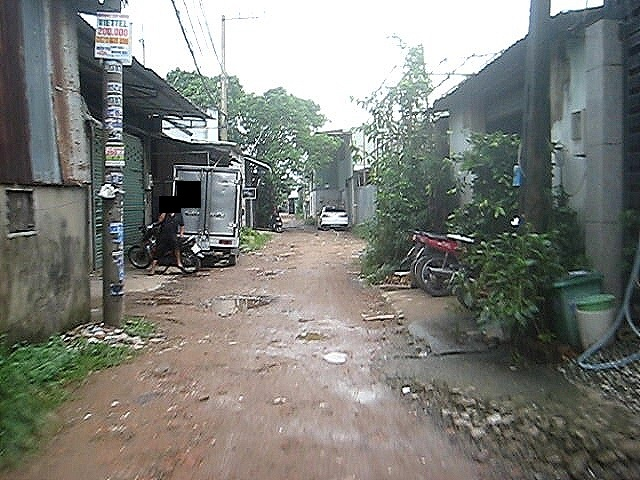hole: (191, 290, 279, 321), (246, 264, 292, 280), (315, 349, 357, 365), (289, 330, 336, 343), (271, 250, 298, 260)
